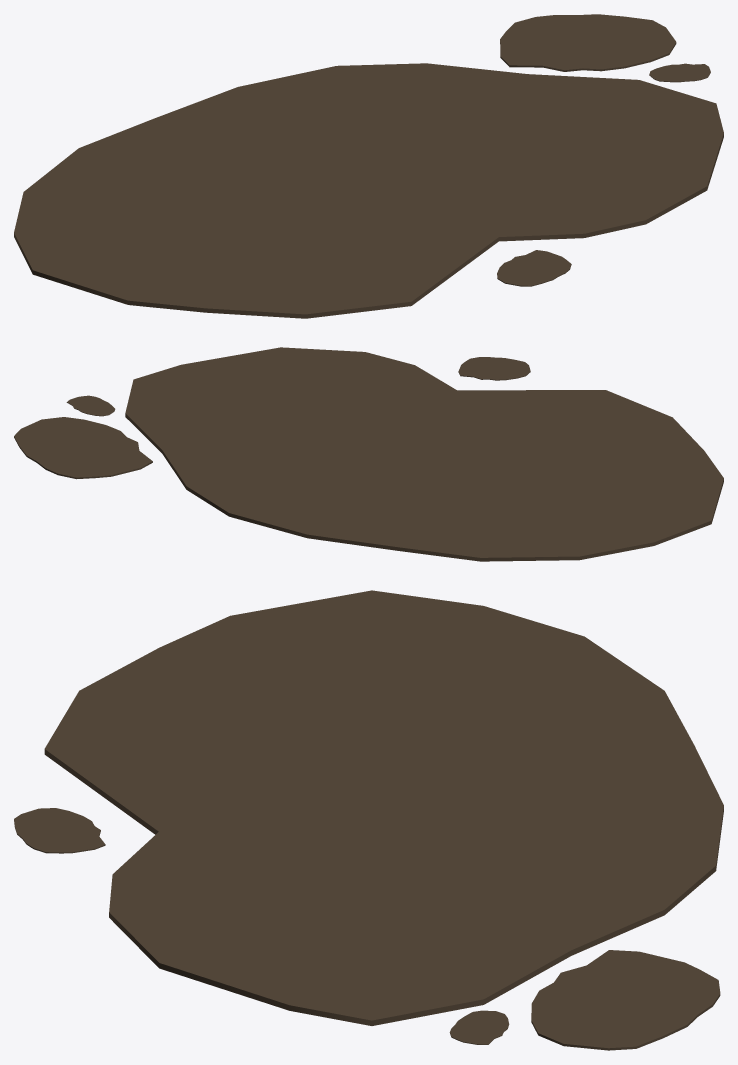
The model's file is Park_modder_1.fbx.
The picture shows the model from 3 angles, top to bottom: view 1: azimuth 30°, elevation 25°; view 2: azimuth 150°, elevation 25°; view 3: azimuth 270°, elevation 25°; orthographic projection. The views are drawn at different scales.
Visible parts, largest first — view 1: pCylinder5; view 2: pCylinder5; view 3: pCylinder5.
Part boxes in pixels (x1,y1,x2,y2): pCylinder5: (14,14,723,318); pCylinder5: (14,347,723,561); pCylinder5: (14,590,723,1050).
Size of the model in its own units: 16.97 by 0.0974 by 11.16.
